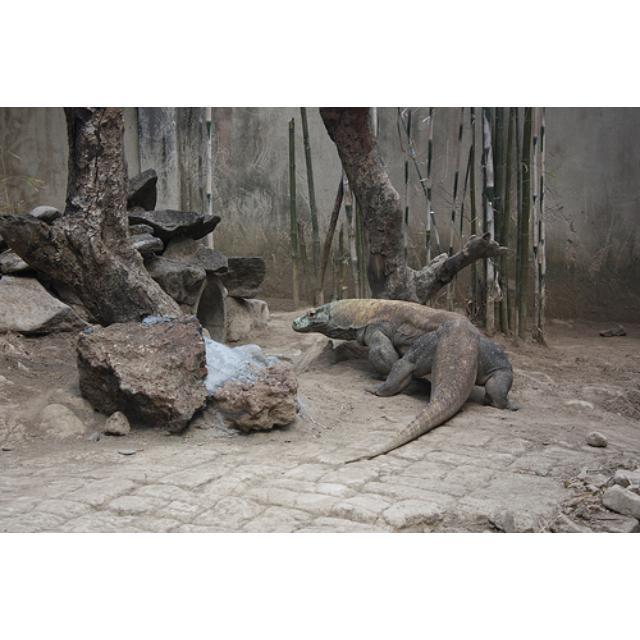KomodoDragon: (291, 298, 516, 463)
